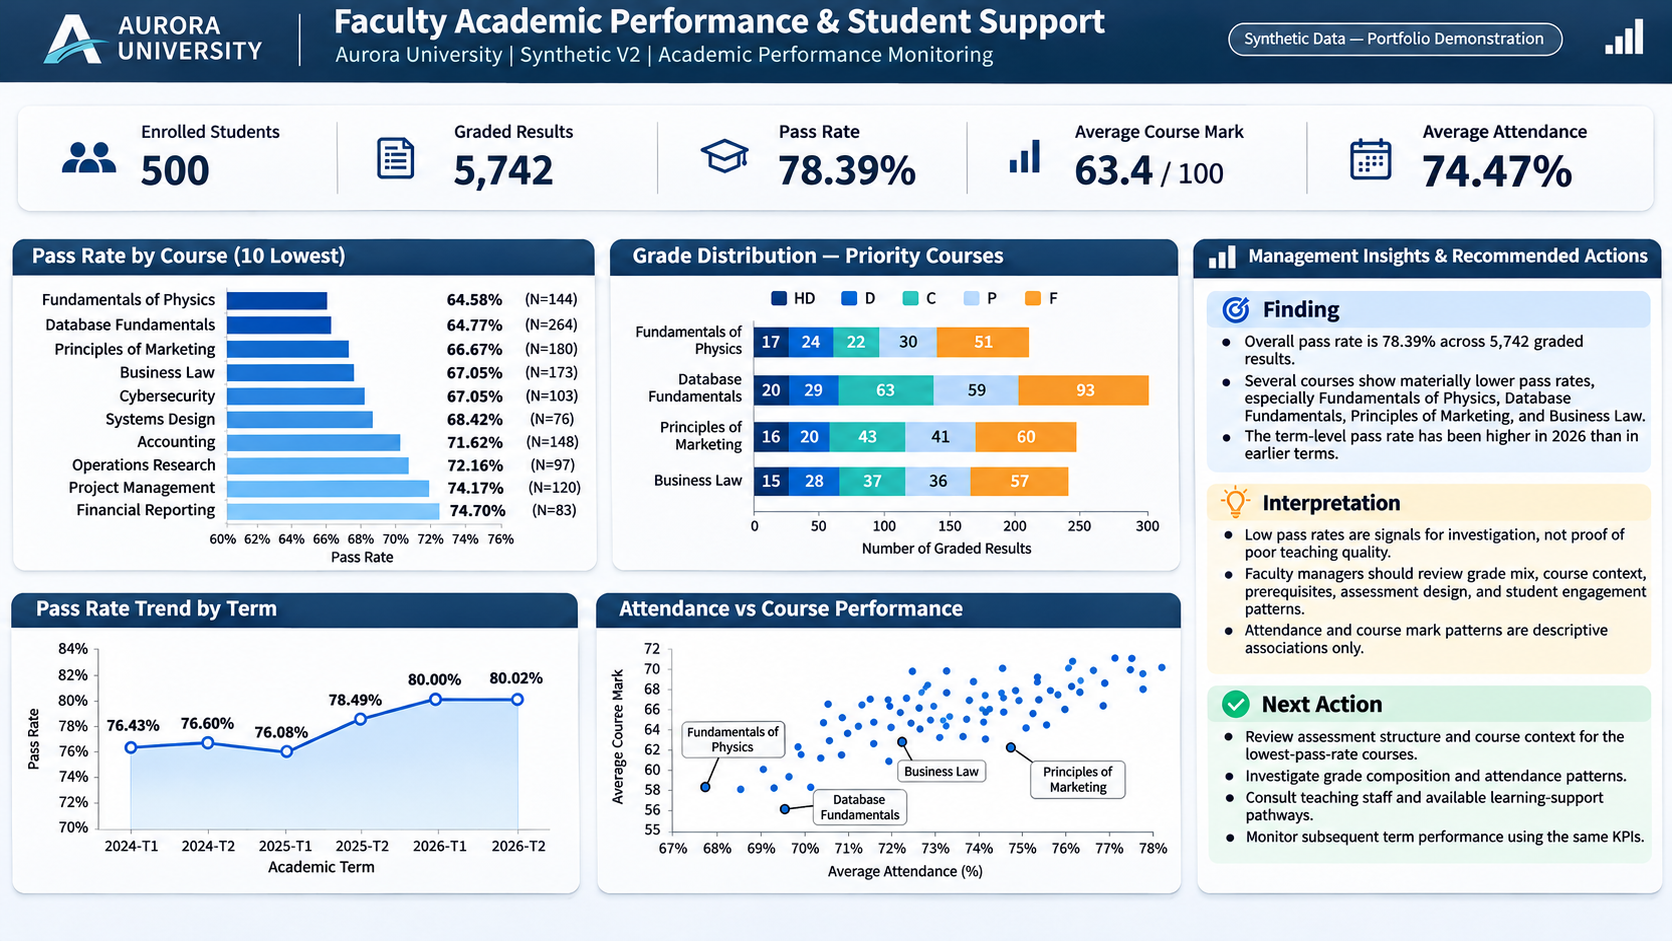

What the dashboard file says about the page in this screenshot:
{"tool":"powerbi","page":{"name":"Page 1","canvas":[1920,1080],"ordinal":0},"visuals":[{"type":"cardVisual","title":"yy","fields":{"Data":["FactEnrollment.Enrolled Students","FactEnrollment.Graded Results","FactEnrollment.Pass Rate","Avg(FactEnrollment.Final_Mark)","FactEnrollment.Average Attendance"]},"box":[0,84.3,1920,166.2],"z":0},{"type":"clusteredBarChart","title":"Lowest course Pass Rate","fields":{"Category":["DimCourse.Course_Name"],"Y":["FactEnrollment.Pass Rate"]},"box":[18.7,281,732.9,344.2],"z":1000},{"type":"barChart","title":"Grade Distribution - Priority Course","fields":{"Category":["DimCourse.Course_Name"],"Series":["FactEnrollment.Final_Grade"],"Y":["FactEnrollment.Grade Count"]},"box":[782,281,669.7,344.2],"z":2000},{"type":"stackedAreaChart","title":"Pass Rate Trend by Term","fields":{"Category":["DimTerm.Term_ID"],"Y":["FactEnrollment.Pass Rate"]},"box":[18.7,653.3,732.9,395.7],"z":3000},{"type":"scatterChart","title":"Attendance and Course Performance","fields":{"Category":["DimCourse.Course_Name"],"X":["FactEnrollment.Average Attendance"],"Y":["Avg(FactEnrollment.Final_Mark)"]},"box":[782,653.3,669.7,395.7],"z":4000}]}

Visuals, with their boxes in screenshot pixels (x1, y1, x2, y2), scaled from the page's 1920x1080 canvas onto the 1672x941 screenshot:
"yy" cardVisual: box=[0, 73, 1671, 218]
"Lowest course Pass Rate" clusteredBarChart: box=[16, 245, 655, 545]
"Grade Distribution - Priority Course" barChart: box=[681, 245, 1264, 545]
"Pass Rate Trend by Term" stackedAreaChart: box=[16, 569, 655, 914]
"Attendance and Course Performance" scatterChart: box=[681, 569, 1264, 914]
